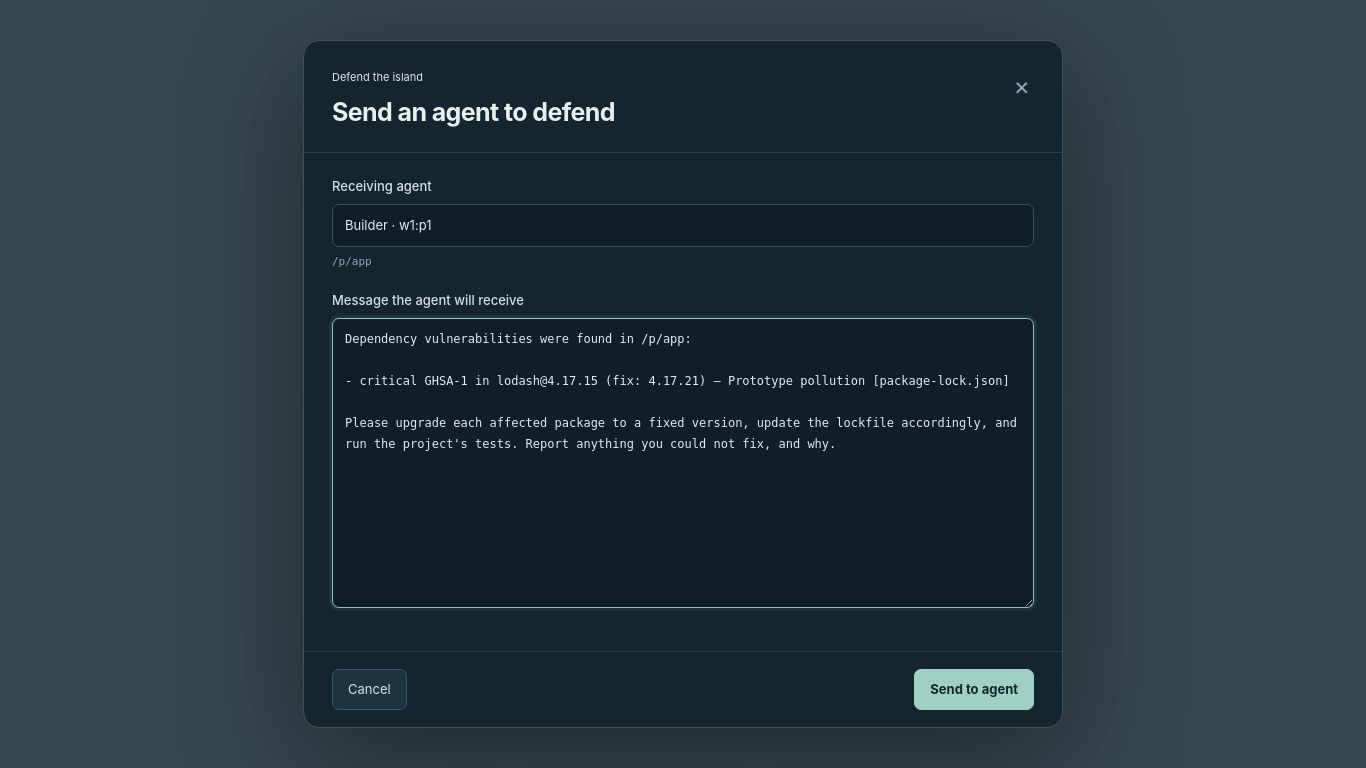
Test case: send_failure_preserves_prompt
The width and height of the screenshot is (1366, 768).
Replace the text in the text box labelled "Message the agent will receive" with "My edited orders": (683, 463) [332, 318, 1034, 608]
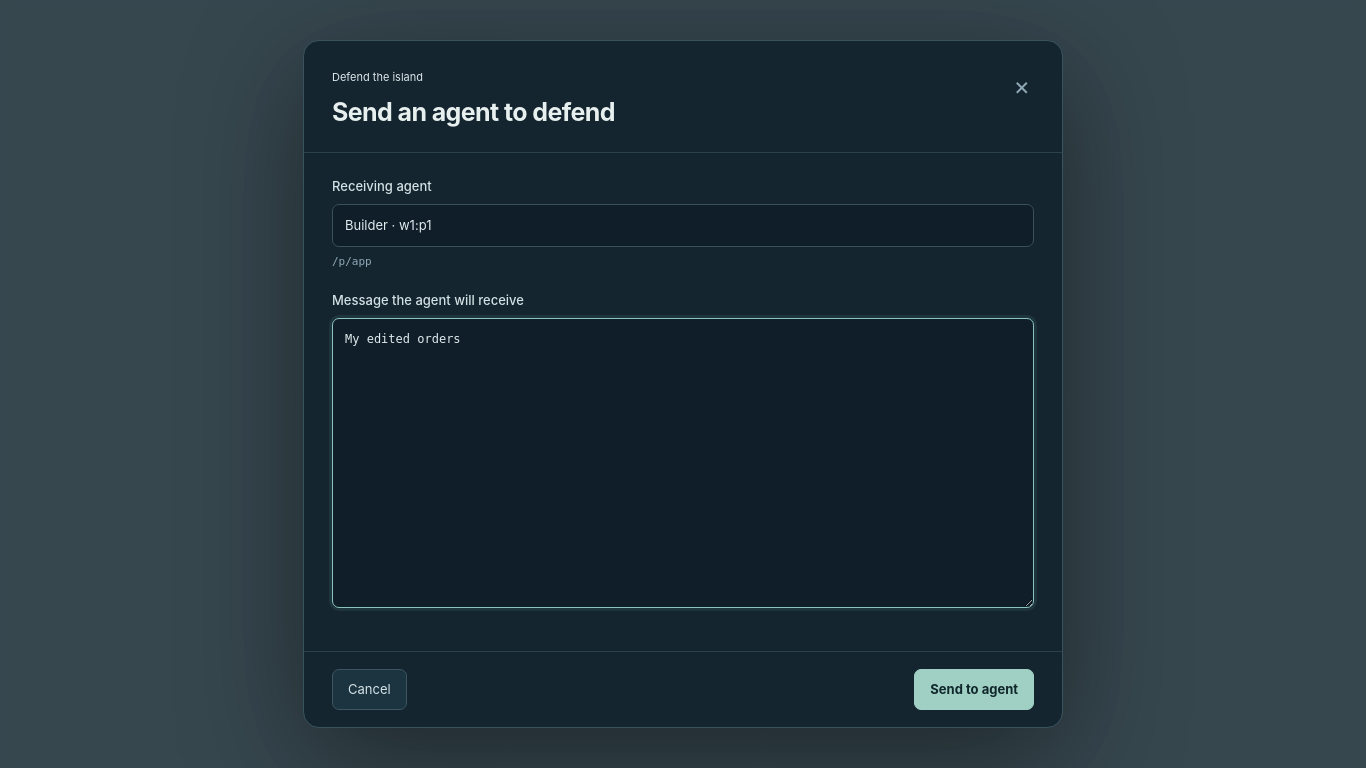
Click the button "Send to agent": (974, 689) [914, 669, 1034, 710]
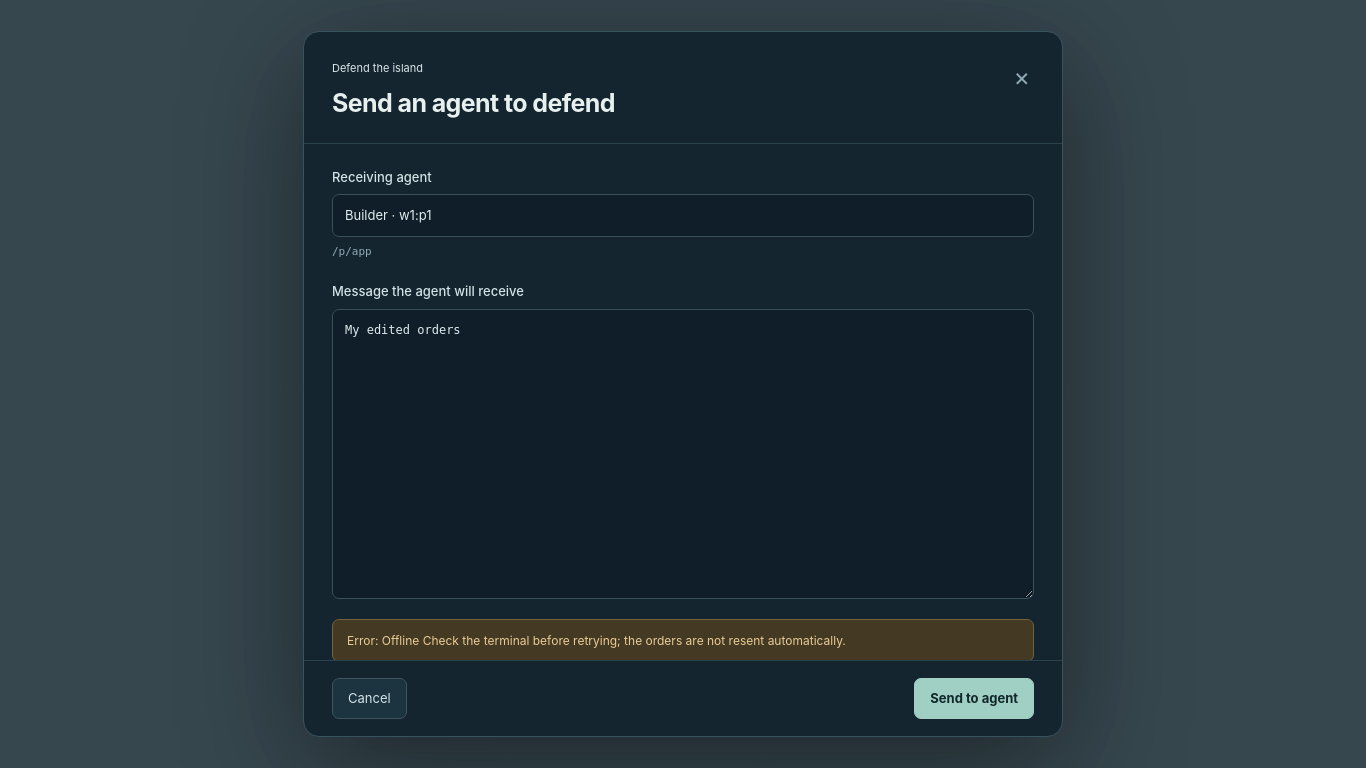
Now the message is shown, box [332, 619, 1034, 660]
